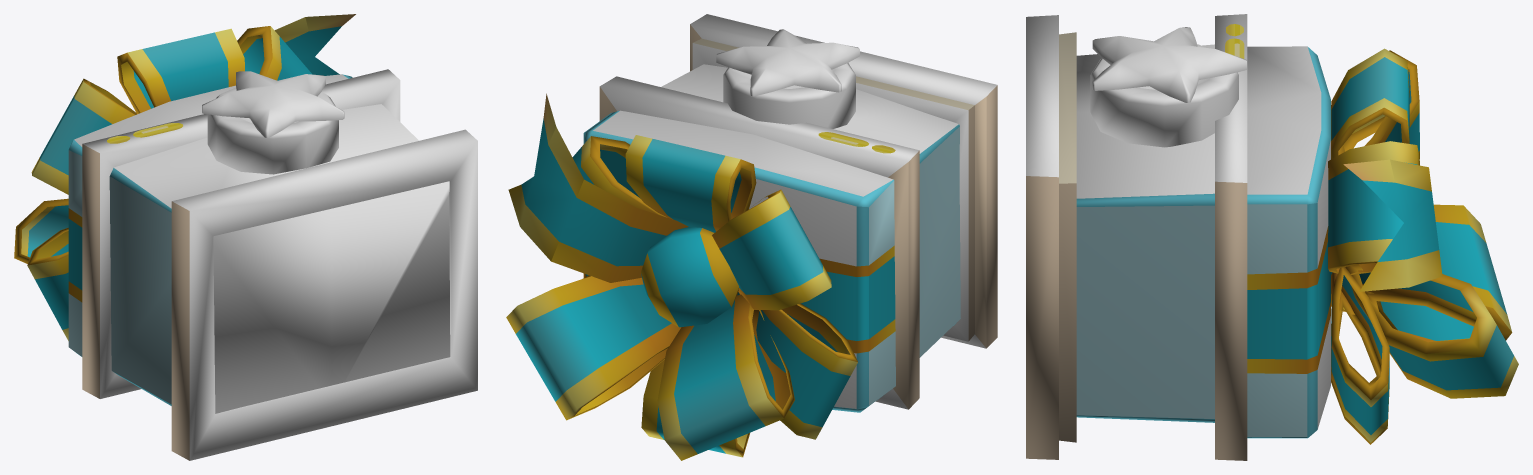
The model's file is trunkProgression.fbx.
3 renders of one model, left to right at view 1: azimuth 30°, elevation 25°; view 2: azimuth 150°, elevation 25°; view 3: azimuth 270°, elevation 25°, orthographic. The views are drawn at different scales.
Visible parts, largest first — view 1: trunkProgression, trunkProgressionLid1; view 2: trunkProgressionLid1, trunkProgression; view 3: trunkProgression, trunkProgressionLid1.
Part boxes in pixels (bbox=[...]): trunkProgression: bbox=[82, 69, 477, 460]; trunkProgressionLid1: bbox=[14, 14, 355, 356]; trunkProgressionLid1: bbox=[506, 93, 895, 460]; trunkProgression: bbox=[599, 14, 997, 409]; trunkProgression: bbox=[1026, 14, 1247, 460]; trunkProgressionLid1: bbox=[1247, 46, 1518, 444].
Bounding box in the file's own units: 73.18 × 65.95 × 78.99.
